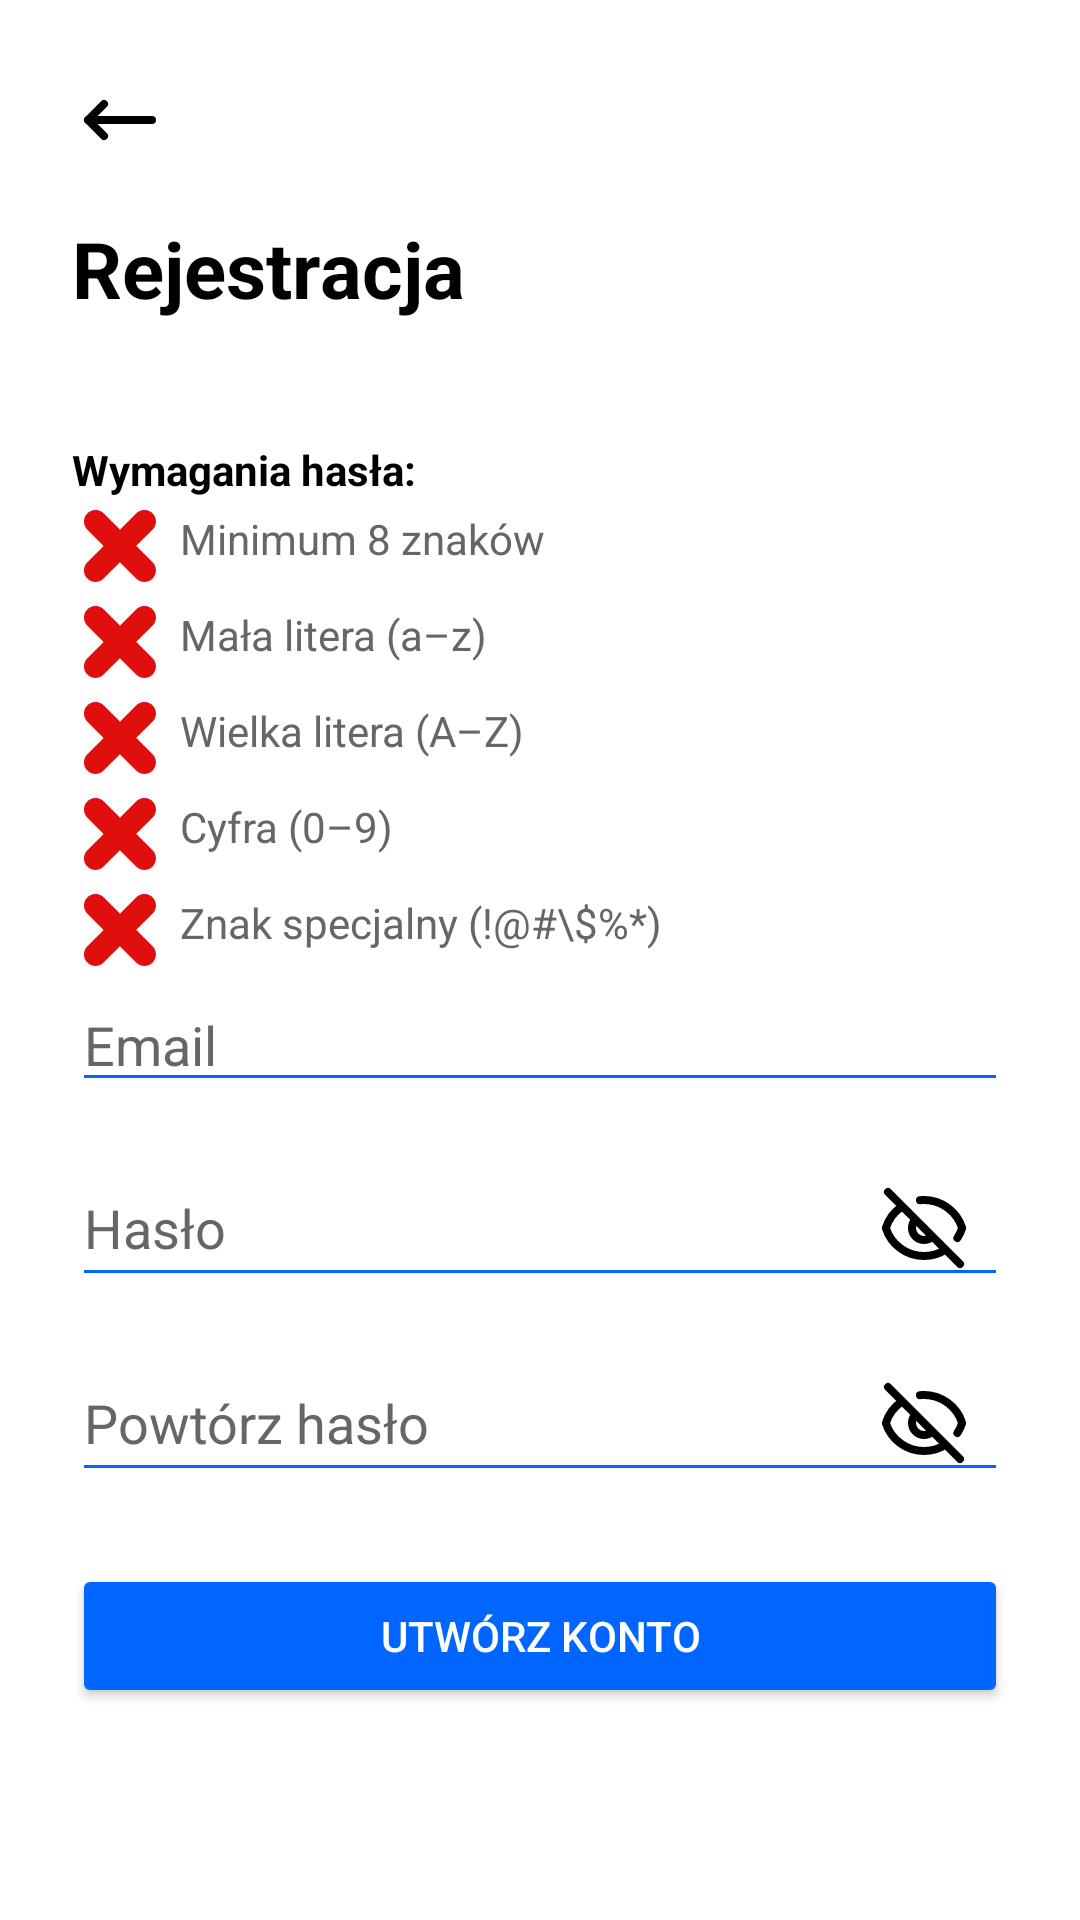

Icons on this 1080px×1920px Android screen, each with the point to tap as point (x, y):
arrow: point (119, 120)
